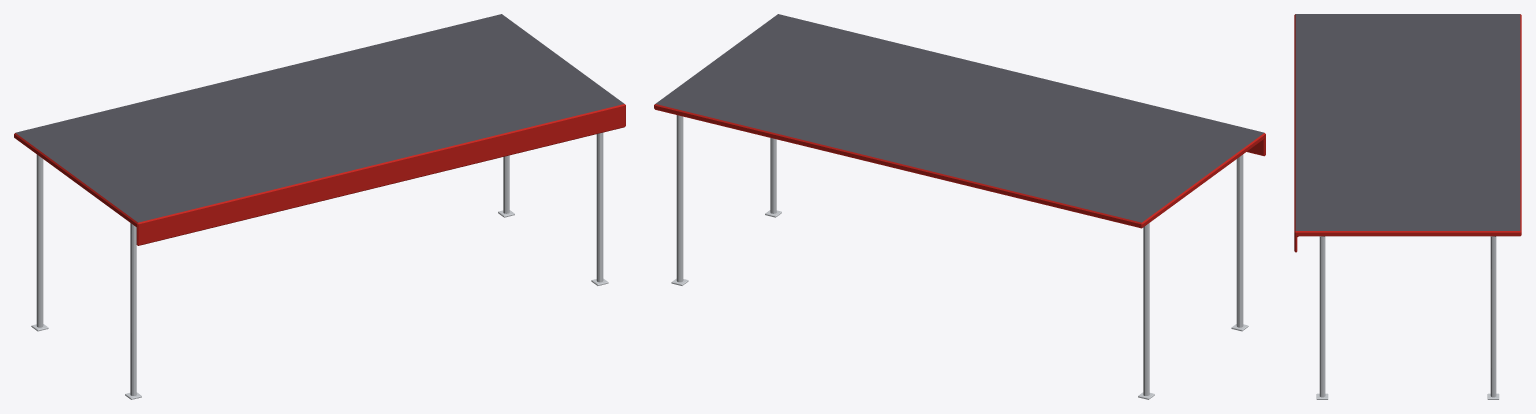
File: techo_plano_grande.glb
3 renders of one model, left to right at view 1: azimuth 30°, elevation 25°; view 2: azimuth 150°, elevation 25°; view 3: azimuth 270°, elevation 25°, orthographic. The views are drawn at different scales.
Visible parts, largest first — view 1: pieza_tramo, pieza_punta_izq, pieza_punta_der; view 2: pieza_tramo, pieza_punta_izq, pieza_punta_der; view 3: pieza_tramo, pieza_punta_der, pieza_punta_izq.
Boxes of the visible parts, bbox=[...] form: pieza_tramo: bbox=[56, 24, 584, 235]; pieza_punta_izq: bbox=[14, 123, 179, 399]; pieza_punta_der: bbox=[461, 14, 625, 285]; pieza_tramo: bbox=[695, 24, 1223, 218]; pieza_punta_izq: bbox=[1100, 123, 1265, 399]; pieza_punta_der: bbox=[654, 14, 818, 285]; pieza_tramo: bbox=[1294, 32, 1521, 213]; pieza_punta_der: bbox=[1294, 213, 1521, 399]; pieza_punta_izq: bbox=[1294, 14, 1521, 32].
Size of what is drawn, in the model's own units: 3.5 by 1.28 by 1.54.
